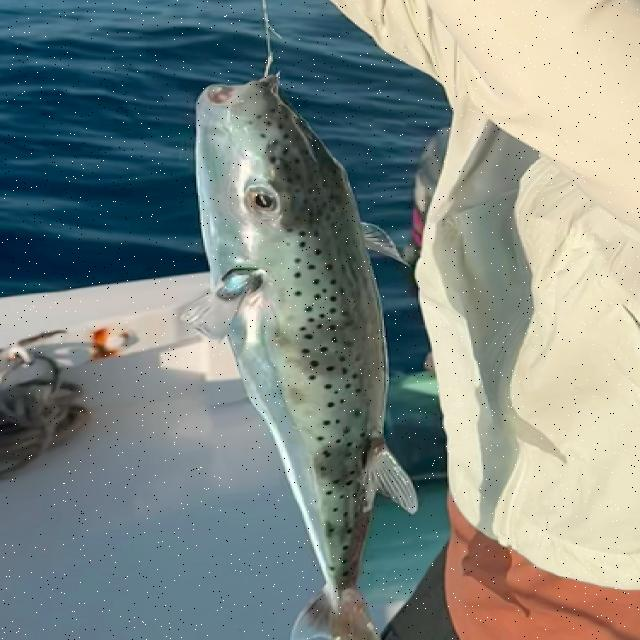Balik: (183, 76, 416, 639)
